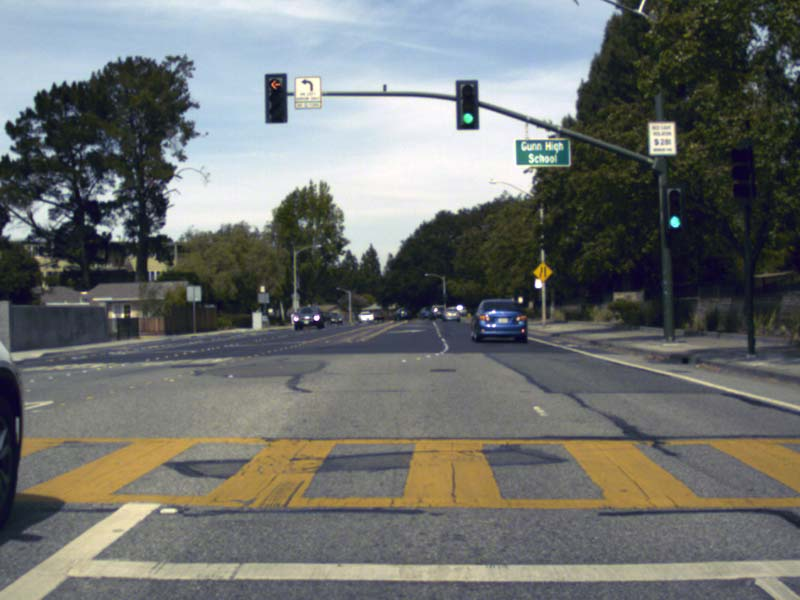Green: (457, 81, 476, 128), (666, 187, 682, 230)
Red: (266, 75, 285, 122)
